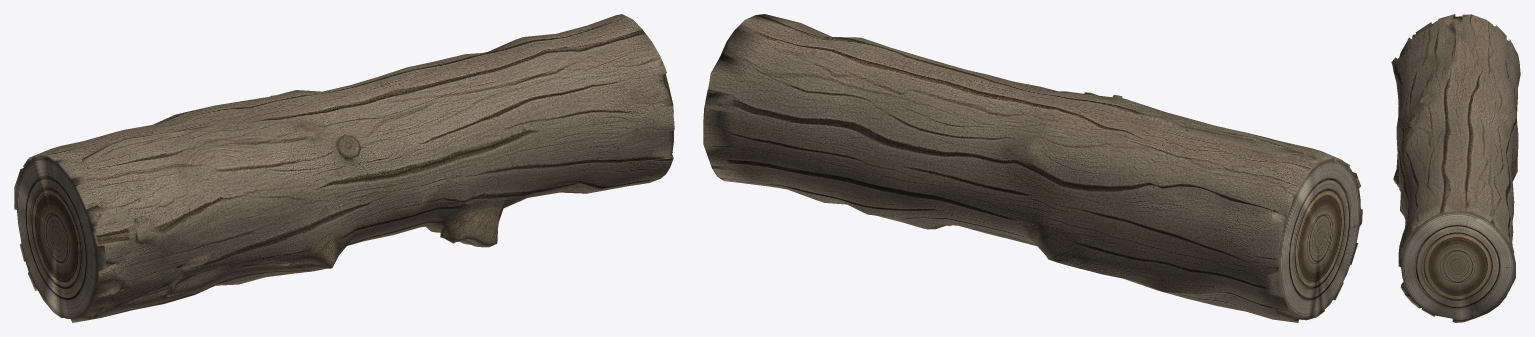
The model's file is log.glb.
3 renders of one model, left to right at view 1: azimuth 30°, elevation 25°; view 2: azimuth 150°, elevation 25°; view 3: azimuth 270°, elevation 25°, orthographic. The views are drawn at different scales.
Size of the model in its own units: 0.959 by 0.2675 by 0.2641.
1 material, 1 textured.
